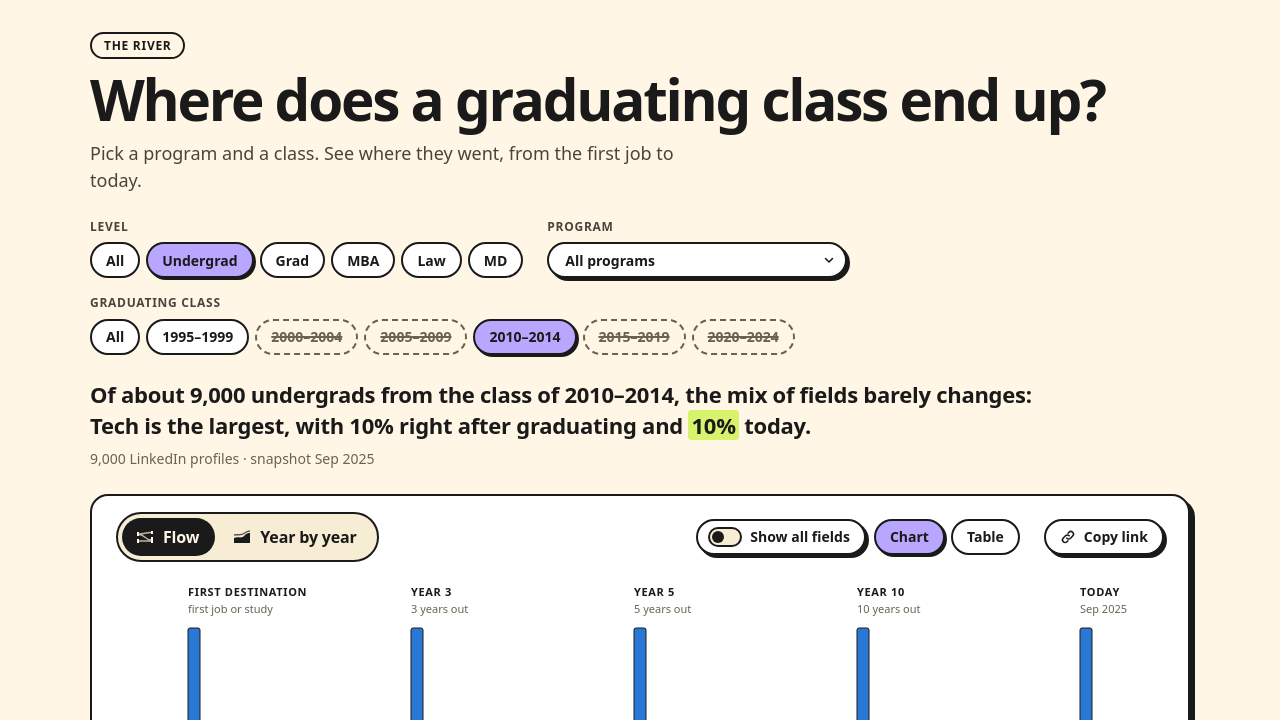
Test: RiverView › moves to a class that has a River when a new program lacks the current one
This screenshot has width=1280, height=720.
Step 1. Replace the text in the dropdown labelled "Program" with "biology" → (697, 260), box [547,242,847,278]
Then press Enter
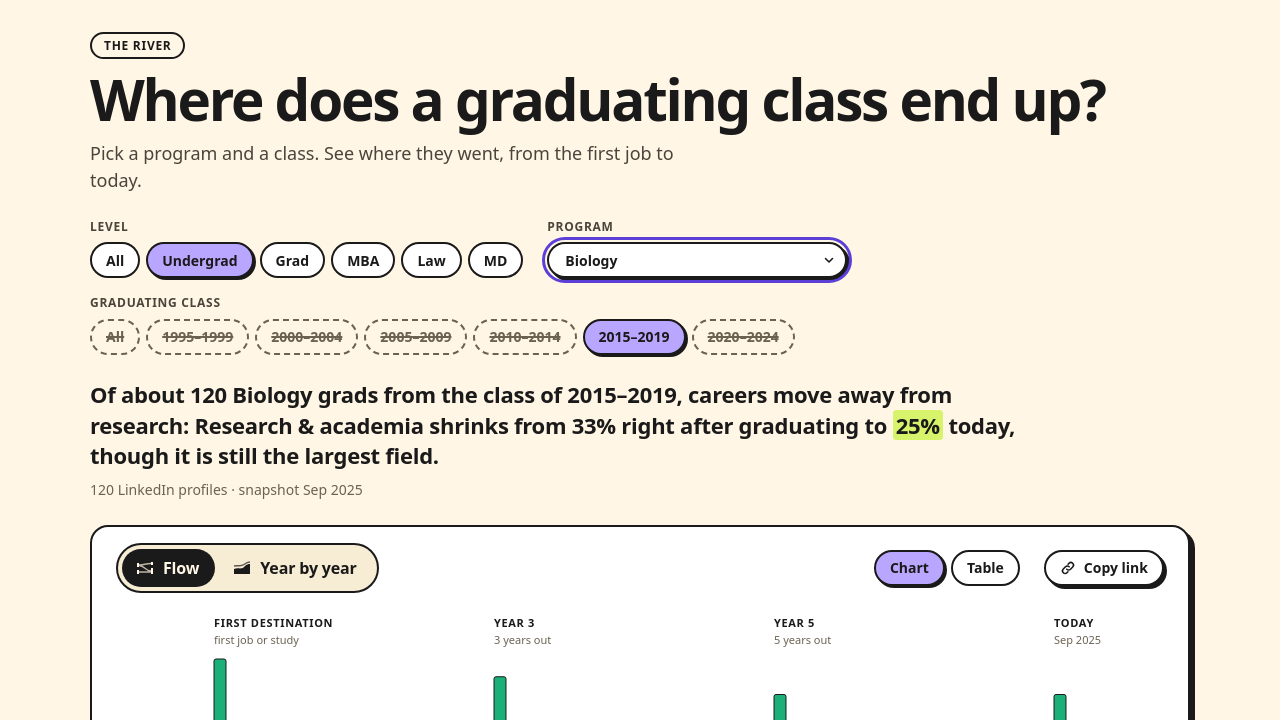
expect the element with class "river-summary__text" shows "Of about 120 Biology grads from the class of 2015–2019": met, box [90,379,952,440]
